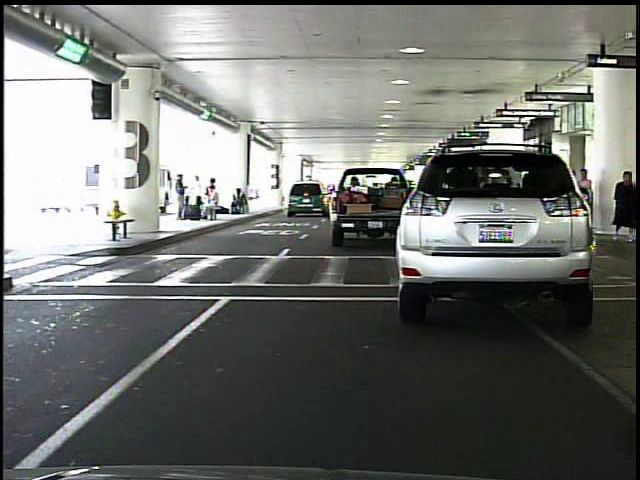person: (608, 166, 634, 242), (574, 166, 598, 236), (172, 171, 192, 224)
